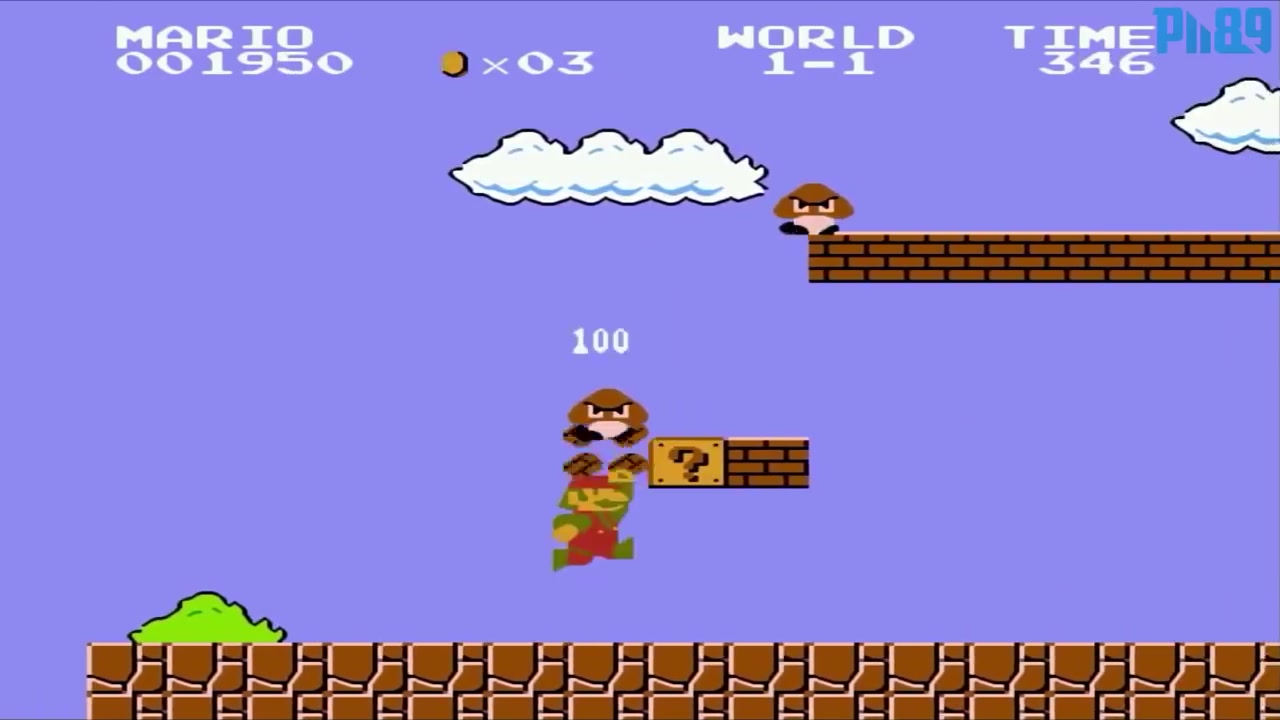mario: (552, 462, 644, 572)
